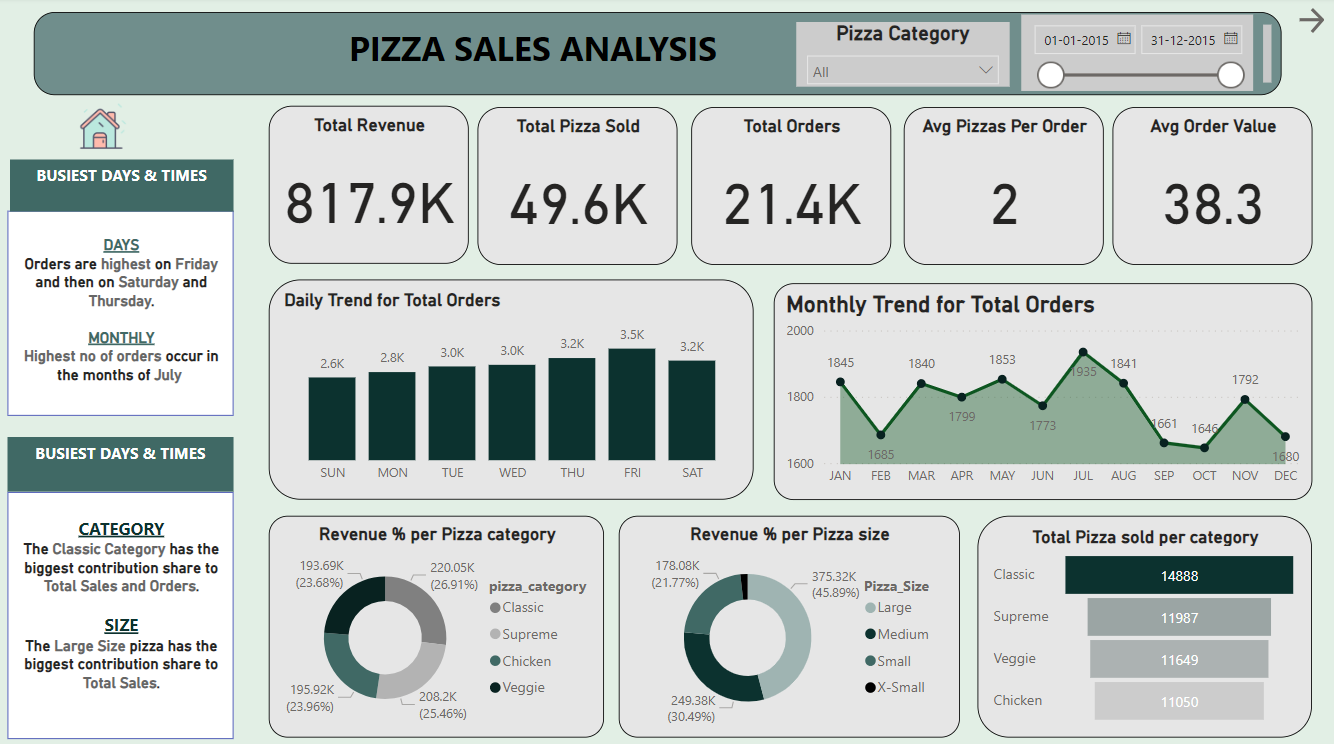

What the dashboard file says about the page in this screenshot:
{"tool":"powerbi","page":{"name":"Pizza Sales Analysis","canvas":[1280,720],"ordinal":1},"visuals":[{"type":"areaChart","title":"Monthly Trend for Total Orders","fields":{"Y":["ALL DAX PIZZA.Total Orders"],"Category":["pizza_sales.Month"]},"box":[741.7,272.6,512.6,206.2],"z":0},{"type":"card","title":"Total Revenue","fields":{"Values":["ALL DAX PIZZA.Total Revenue"]},"box":[260.5,103.7,190.6,150.8],"z":1000},{"type":"group","id":"g1","title":"Group 7","box":[12.1,154.4,214.7,551.2],"z":2000},{"type":"clusteredColumnChart","title":"Daily Trend for Total Orders","fields":{"Category":["pizza_sales.Weekday"],"Y":["ALL DAX PIZZA.Total Orders"]},"box":[260.5,268.9,461.9,209.8],"z":3000},{"type":"card","title":"Total Pizza Sold","fields":{"Values":["ALL DAX PIZZA.Total Pizza Sold"]},"box":[459.5,104.9,190.6,150.8],"z":4000},{"type":"card","title":"Total Orders","fields":{"Values":["ALL DAX PIZZA.Total Orders"]},"box":[663.3,104.9,190.6,150.8],"z":5000},{"type":"card","title":"Avg Pizzas Per Order","fields":{"Values":["ALL DAX PIZZA.Avg Pizzas Per Order"]},"box":[864.7,104.9,190.6,150.8],"z":6000},{"type":"textbox","box":[12.1,203.3,215.2,195.4],"z":6000,"group":"g1"},{"type":"card","title":"Avg Order Value","fields":{"Values":["ALL DAX PIZZA.Avg Order Value"]},"box":[1063.7,104.9,190.6,150.8],"z":7000},{"type":"textbox","box":[15,154.4,212.7,49.3],"z":7000,"group":"g1"},{"type":"textbox","box":[12.7,470.5,215.2,235.1],"z":8000,"group":"g1"},{"type":"donutChart","title":"Revenue % per Pizza category","fields":{"Category":["pizza_sales.pizza_category"],"Y":["ALL DAX PIZZA.Total Revenue"]},"box":[260.5,494.5,319.6,211.1],"z":8000},{"type":"textbox","box":[12.7,418.6,215.2,51.9],"z":9000,"group":"g1"},{"type":"donutChart","title":"Revenue % per Pizza size","fields":{"Y":["ALL DAX PIZZA.Total Revenue"],"Category":["pizza_sales.Pizza_Size"]},"box":[593.4,494.5,324.4,211.1],"z":9000},{"type":"funnel","title":"Total Pizza sold per category","fields":{"Category":["pizza_sales.pizza_category"],"Y":["Sum(pizza_sales.quantity)"]},"box":[935.9,494.5,318.4,211.1],"z":10000},{"type":"textbox","box":[37,13.7,1188.3,79.6],"z":11000},{"type":"slicer","title":"Pizza Category","fields":{"Values":["pizza_sales.pizza_category"]},"box":[763,23.3,203.1,61.7],"z":12000},{"type":"slicer","fields":{"Values":["pizza_sales.order_date"]},"box":[977,16.5,220.9,72.7],"z":13000},{"type":"actionButton","box":[1236.4,5.5,43.9,32.9],"z":14000},{"type":"image","box":[38.6,82,125.4,88],"z":15000}]}

Visuals, with their boxes in screenshot pixels (x1, y1, x2, y2), scaled from the page's 1280x720 canvas onto the 1334x744 screenshot:
"Monthly Trend for Total Orders" areaChart: 773, 282, 1307, 495
"Total Revenue" card: 271, 107, 470, 263
"Group 7" group: 13, 160, 236, 729
"Daily Trend for Total Orders" clusteredColumnChart: 271, 278, 753, 495
"Total Pizza Sold" card: 479, 108, 678, 264
"Total Orders" card: 691, 108, 890, 264
"Avg Pizzas Per Order" card: 901, 108, 1100, 264
textbox: 13, 210, 237, 412
"Avg Order Value" card: 1109, 108, 1307, 264
textbox: 16, 160, 237, 210
textbox: 13, 486, 238, 729
"Revenue % per Pizza category" donutChart: 271, 511, 605, 729
textbox: 13, 433, 238, 486
"Revenue % per Pizza size" donutChart: 618, 511, 957, 729
"Total Pizza sold per category" funnel: 975, 511, 1307, 729
textbox: 39, 14, 1277, 96
"Pizza Category" slicer: 795, 24, 1007, 88
slicer - pizza_sales.order_date: 1018, 17, 1248, 92
actionButton: 1289, 6, 1333, 40
image: 40, 85, 171, 176
